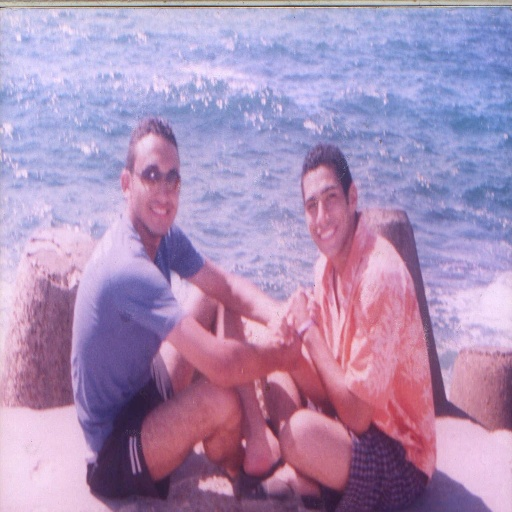hand: (271, 328, 303, 374), (256, 312, 293, 349), (284, 291, 308, 330), (306, 288, 323, 328)
